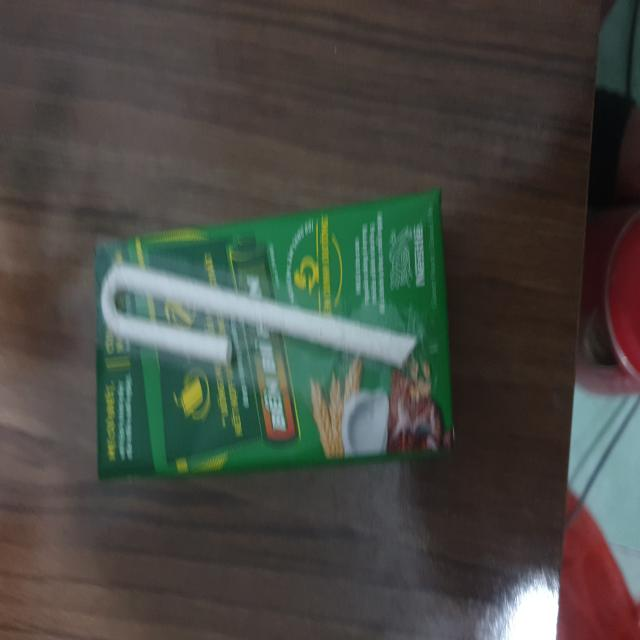Milo: (91, 191, 464, 482)
